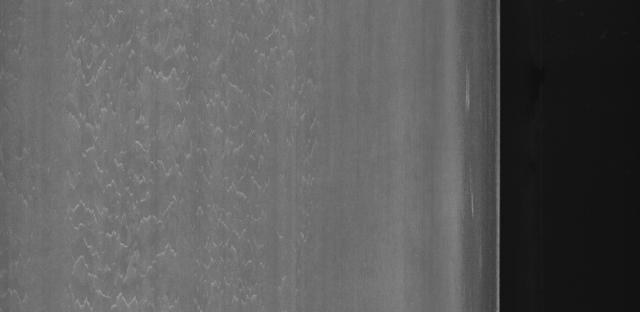silk_spot: (53, 22, 284, 304)
